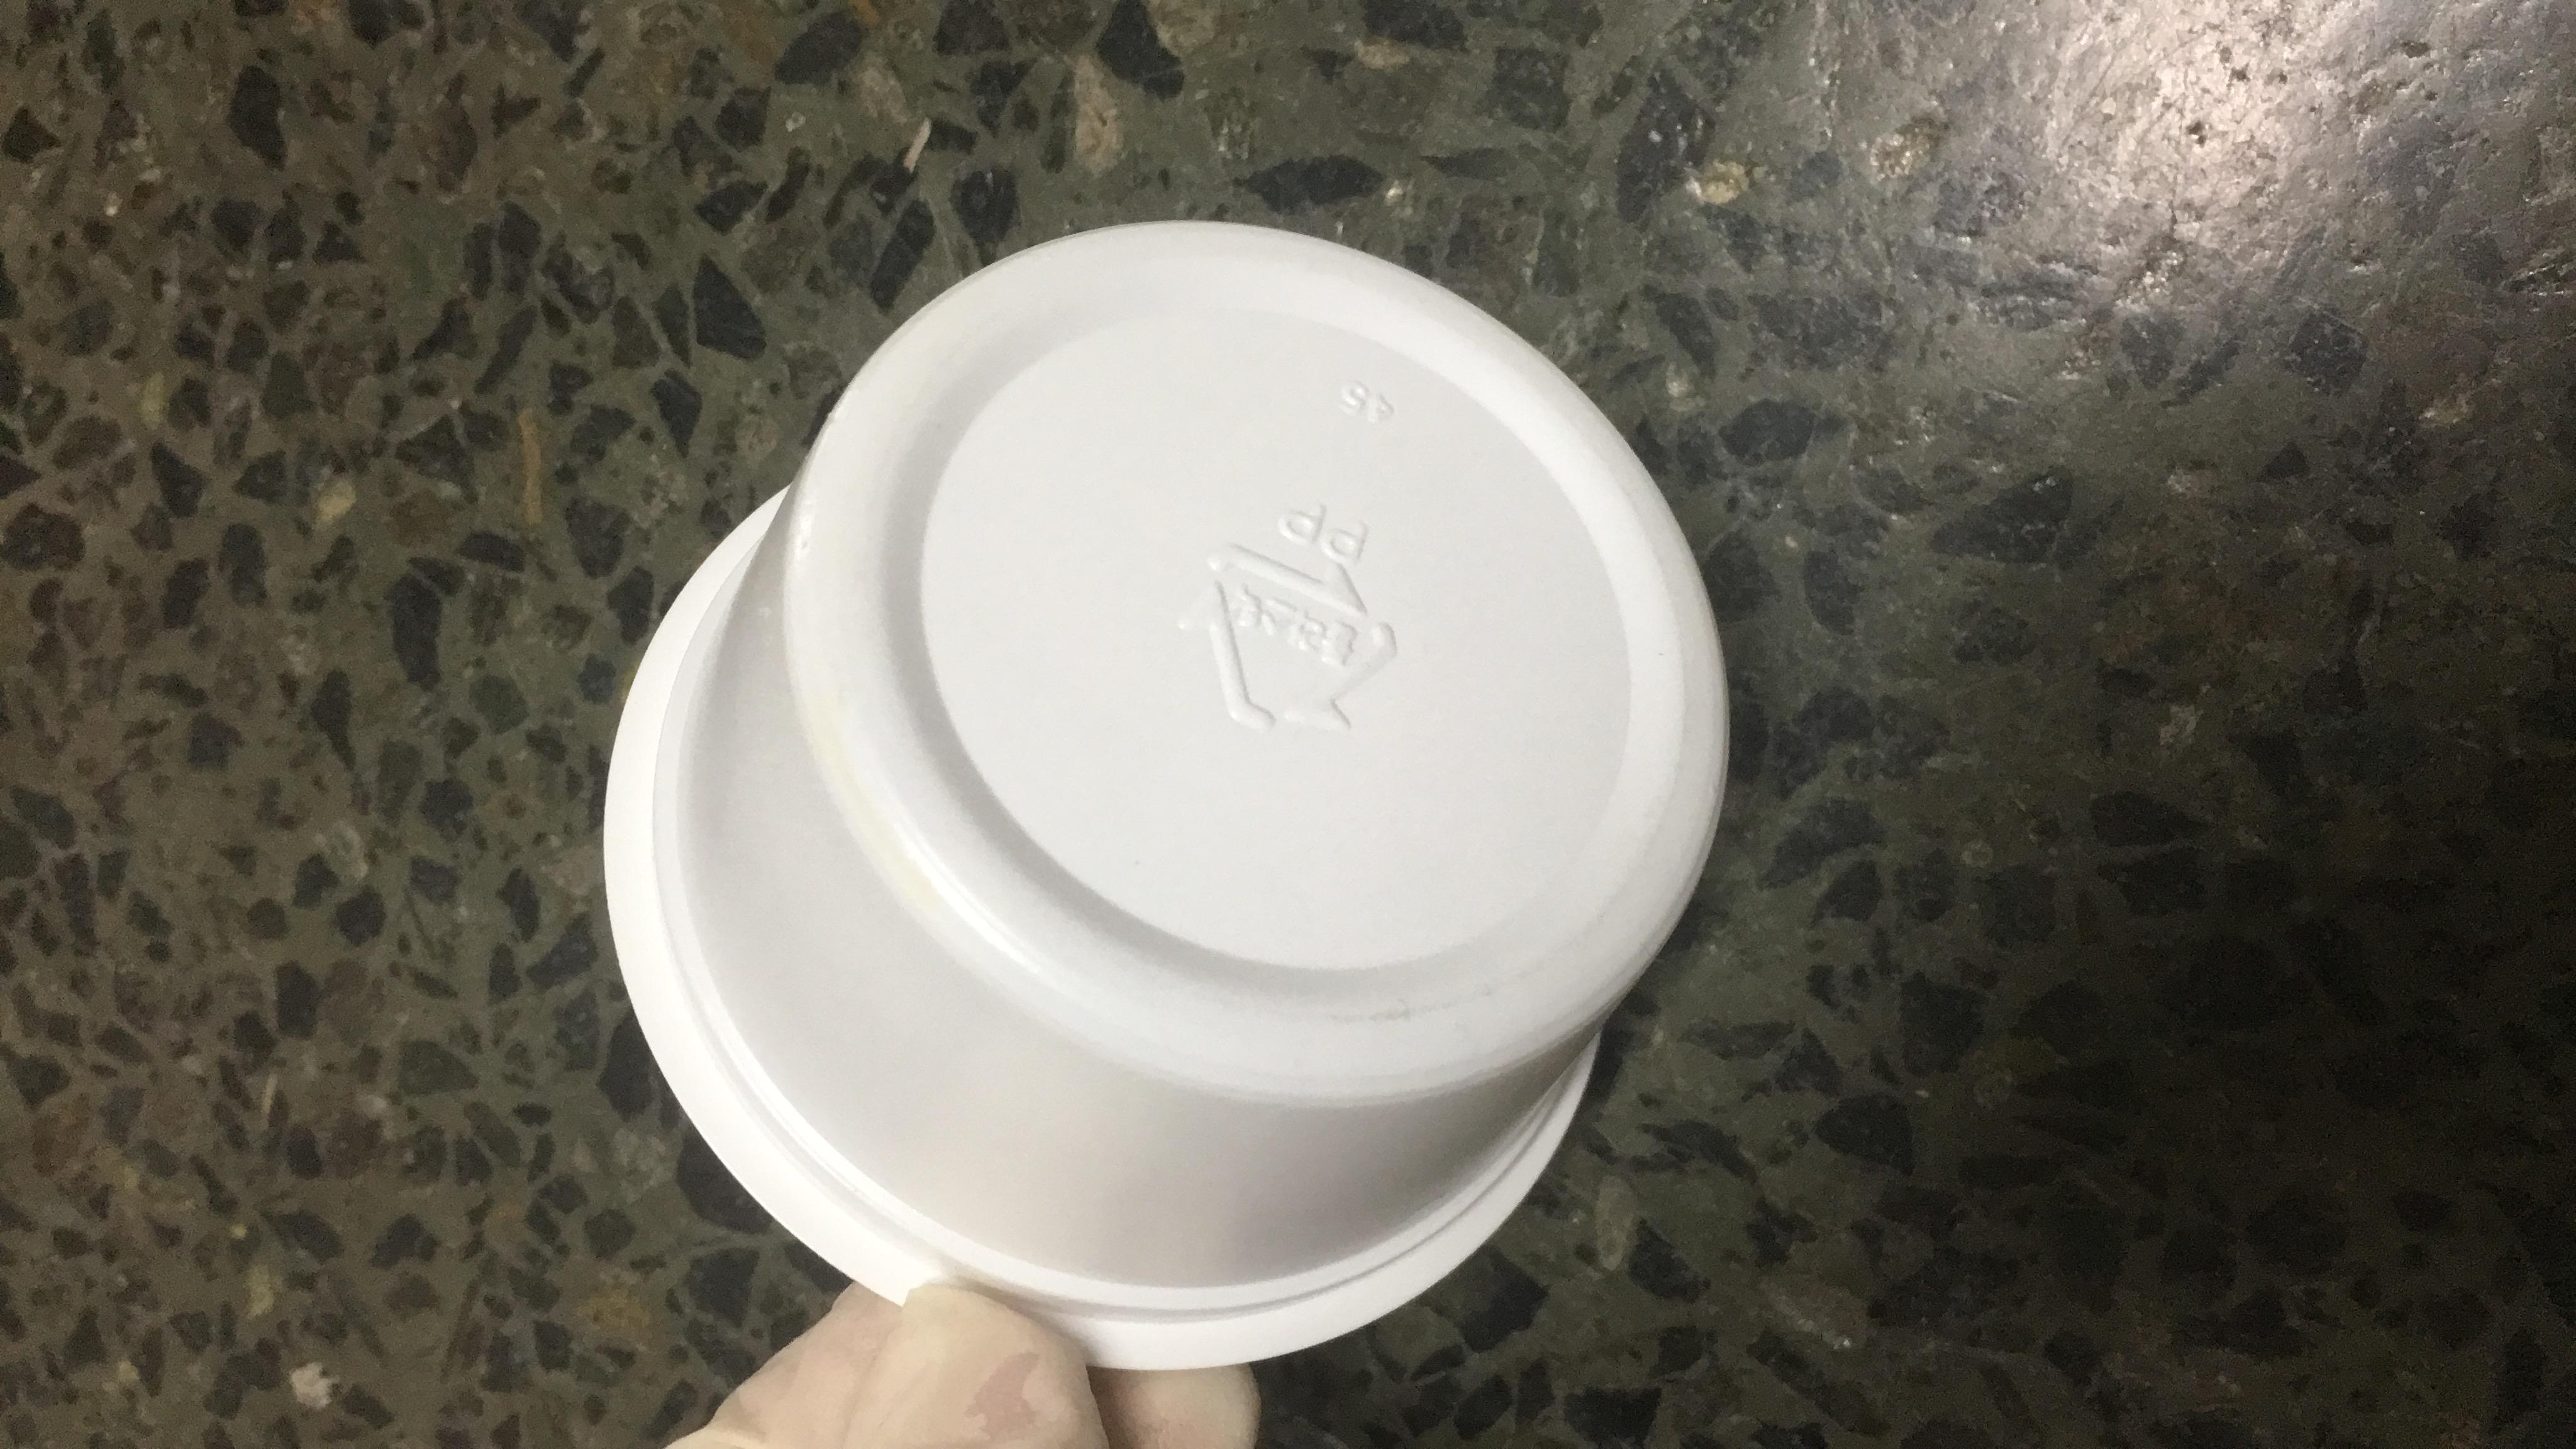bottle: (9, 349, 2054, 985)
